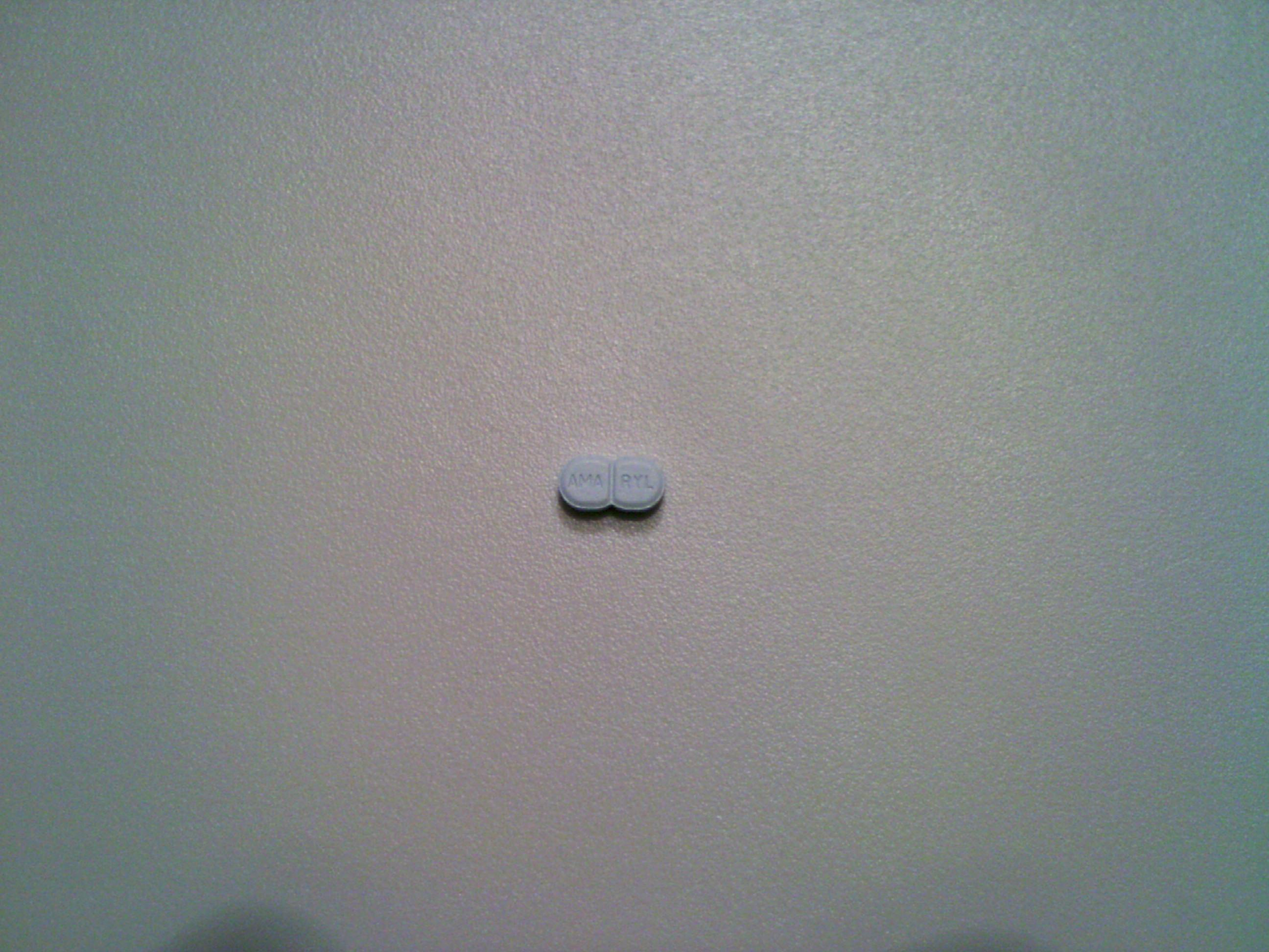Pill: (535, 439, 682, 534)
